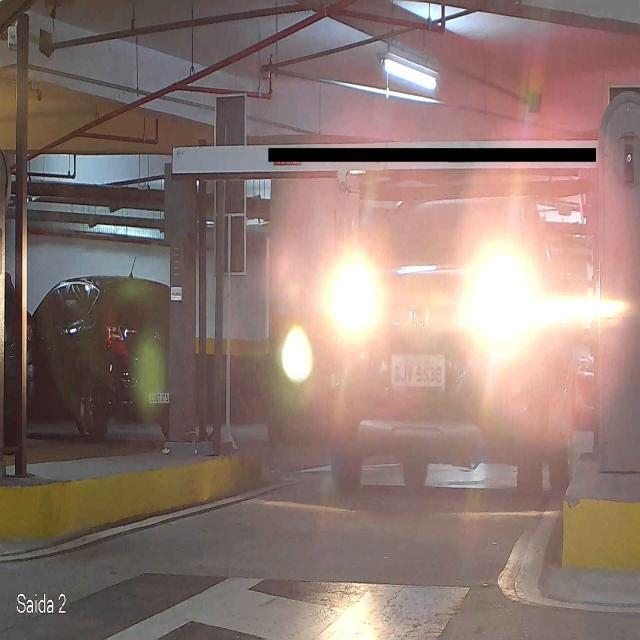old_plate: (388, 351, 446, 389)
